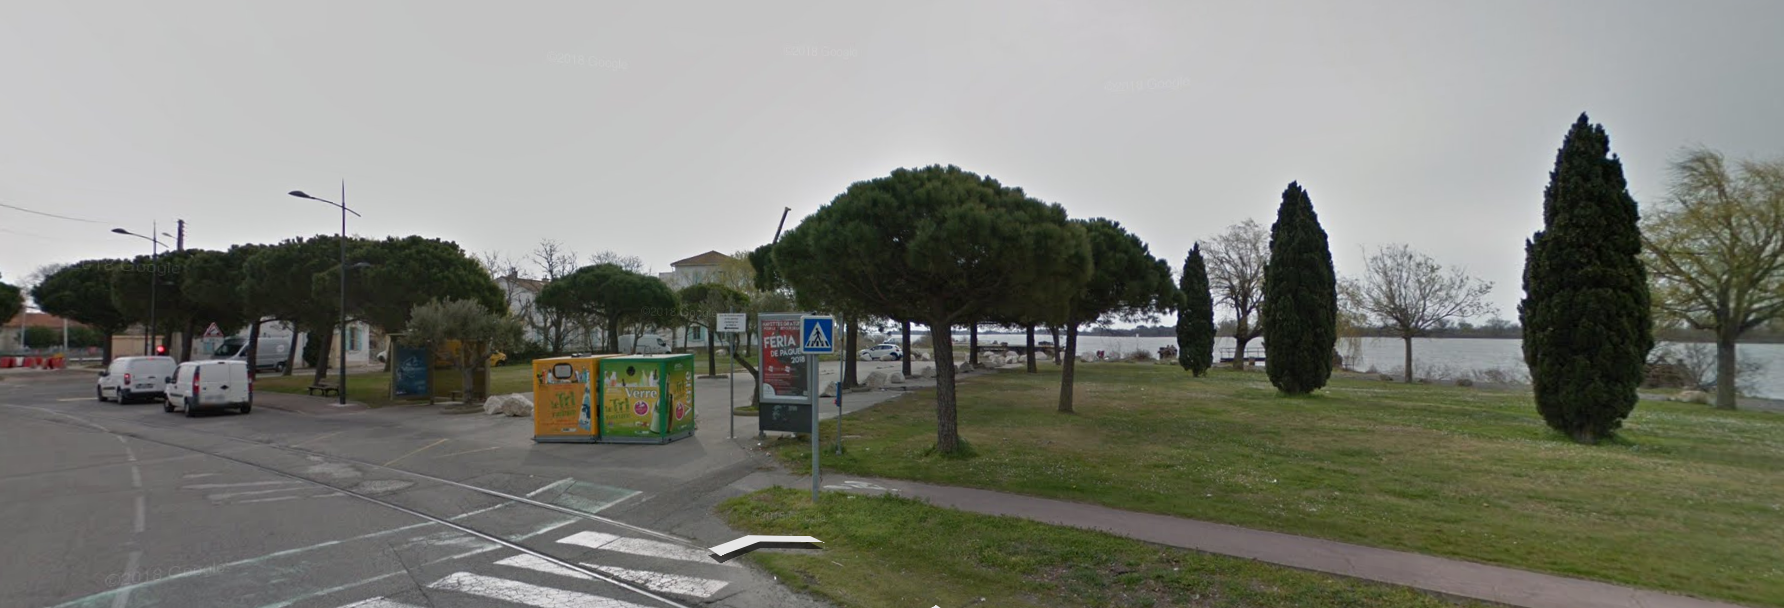Tree: (783, 178, 1098, 471), (1514, 108, 1668, 462), (261, 240, 512, 450), (1264, 183, 1348, 414), (38, 250, 151, 381), (540, 272, 682, 358), (166, 237, 239, 372), (1163, 241, 1228, 361)
